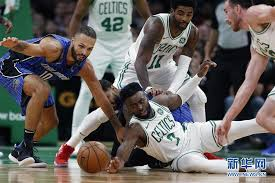fall: (114, 68, 272, 175)
